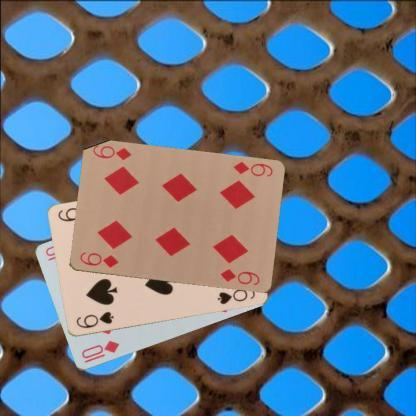10d: (78, 338, 121, 361)
6d: (76, 249, 119, 270), (230, 159, 274, 178)
6s: (73, 309, 115, 330)
